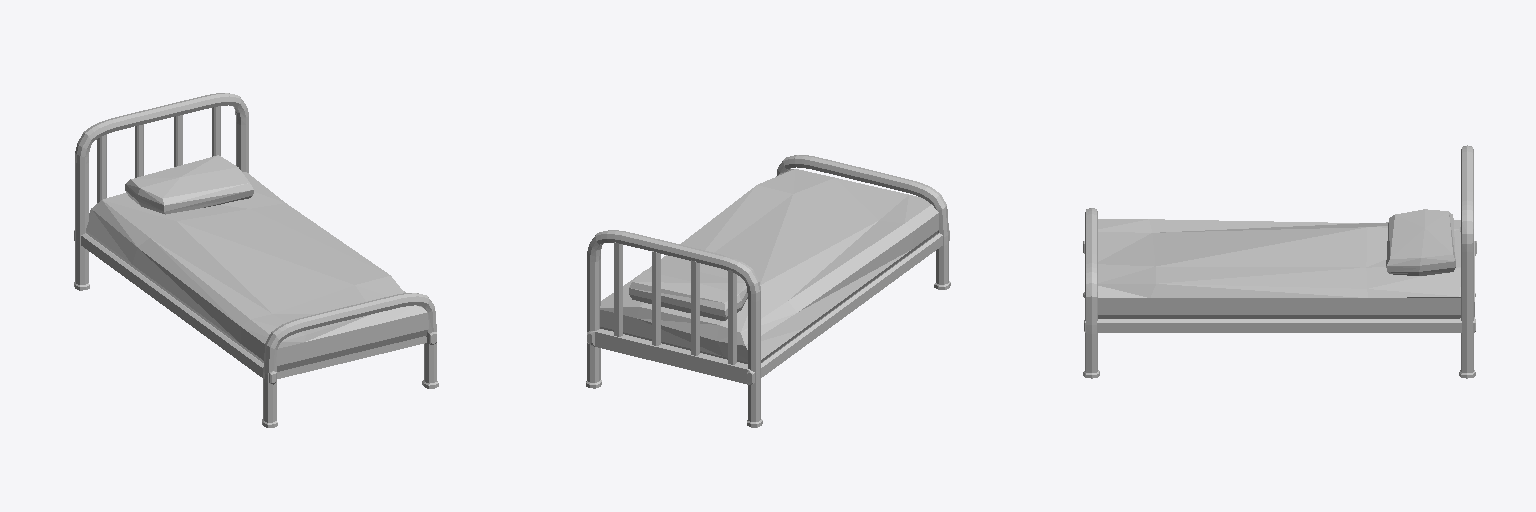
Rendered from cama.obj.
3 renders of one model, left to right at view 1: azimuth 30°, elevation 25°; view 2: azimuth 150°, elevation 25°; view 3: azimuth 270°, elevation 25°, orthographic.
Parts seen in each view (by area): view 1: matress_Cube.002, Metal_Bed_Cube.001, pilow_Cube.001; view 2: matress_Cube.002, Metal_Bed_Cube.001, pilow_Cube.001; view 3: matress_Cube.002, Metal_Bed_Cube.001, pilow_Cube.001.
Boxes of the visible parts, box(x1,y1,x2,y2) form: matress_Cube.002: box(86, 172, 428, 371); Metal_Bed_Cube.001: box(74, 93, 438, 427); pilow_Cube.001: box(125, 155, 253, 214); matress_Cube.002: box(600, 169, 938, 363); Metal_Bed_Cube.001: box(586, 155, 950, 427); pilow_Cube.001: box(629, 264, 747, 320); matress_Cube.002: box(1098, 219, 1460, 318); Metal_Bed_Cube.001: box(1083, 145, 1476, 378); pilow_Cube.001: box(1386, 209, 1455, 275).
Size of the model in its own units: 1.42 by 1.25 by 2.79.